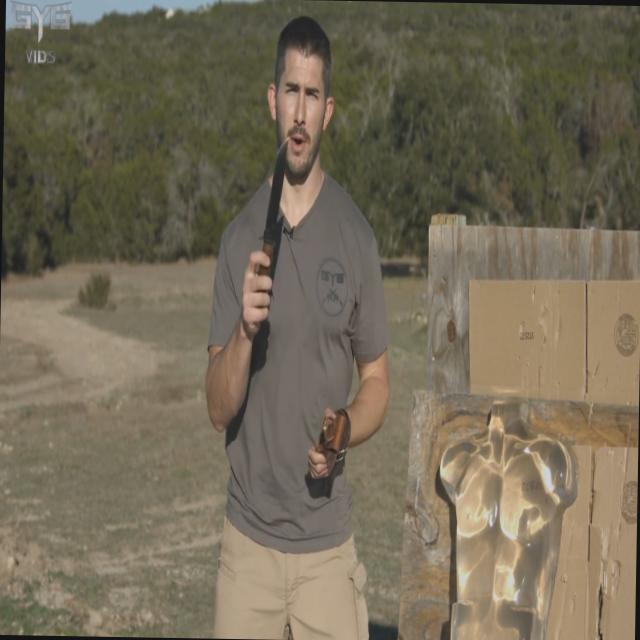knife: (237, 124, 294, 330)
